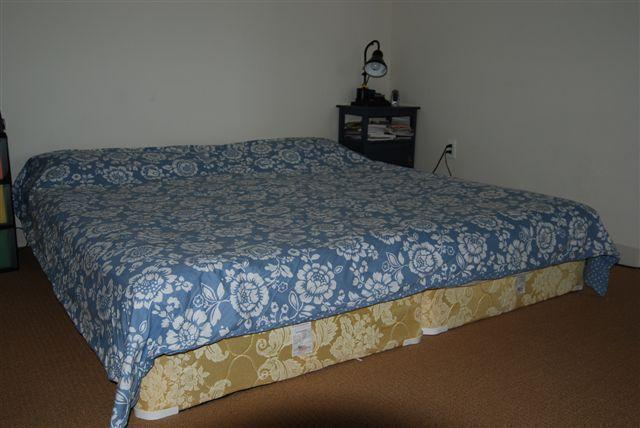Cama: (35, 145, 599, 385)
